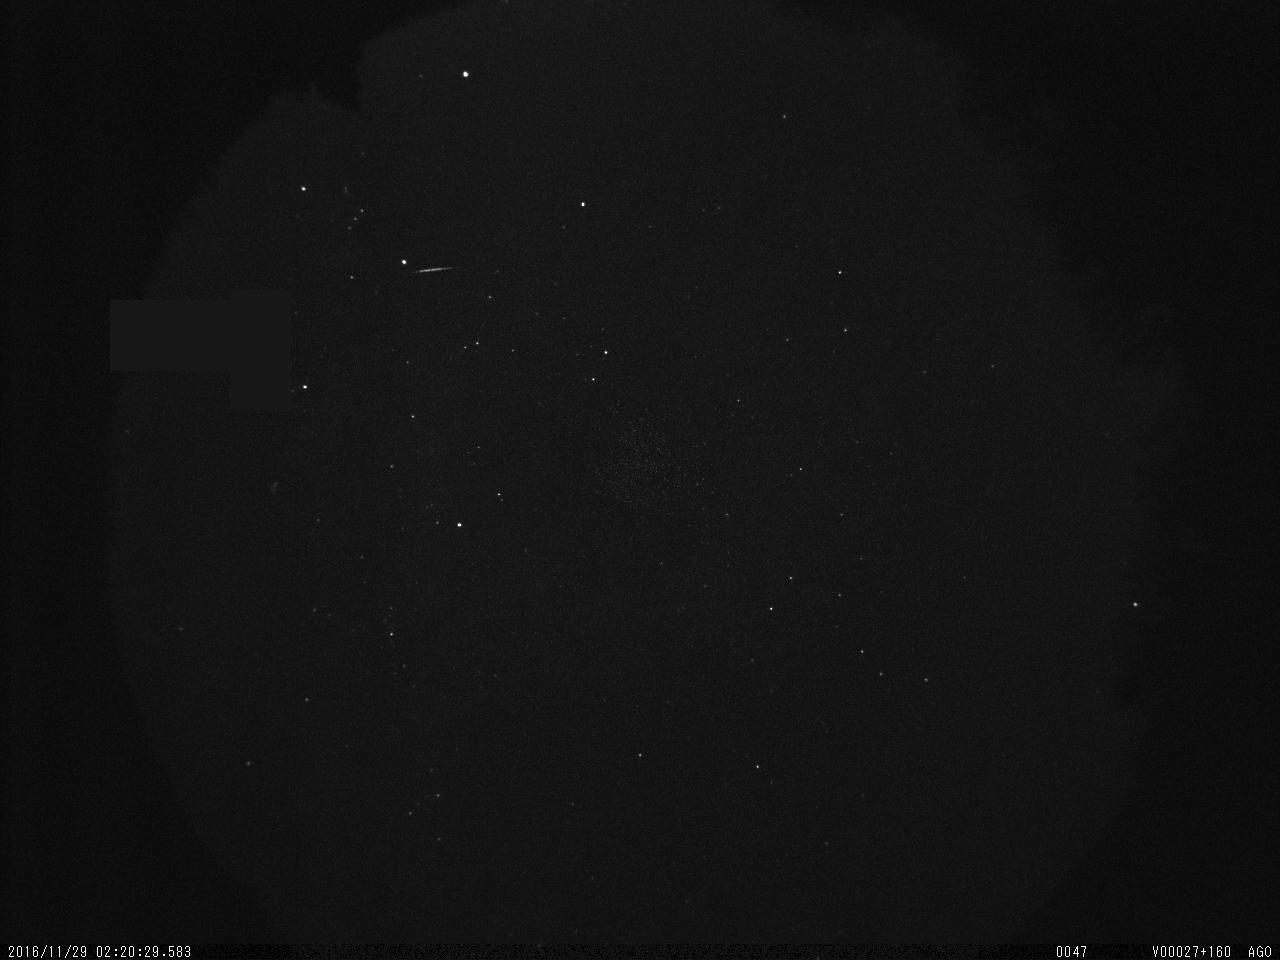meteor: (399, 255, 488, 283)
